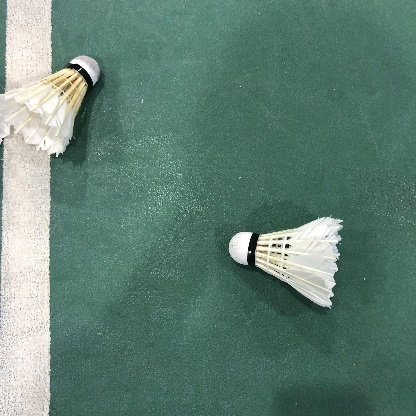ball_single: (229, 217, 343, 308), (2, 55, 100, 158)
